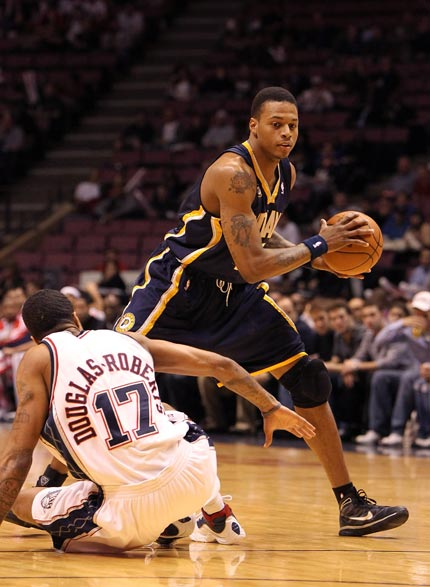10+: (1, 1, 430, 549)
down: (18, 283, 222, 547)
